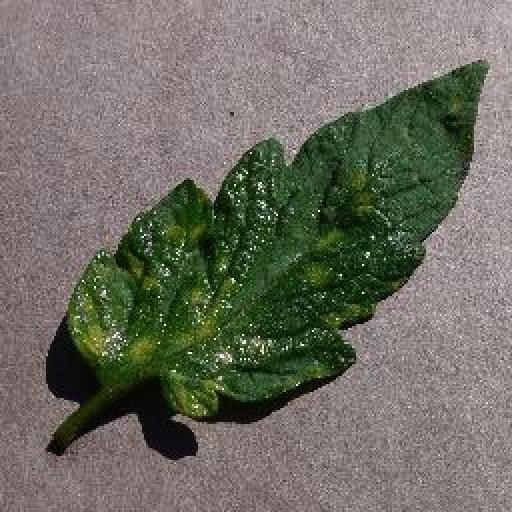disease_tomato: (62, 60, 490, 416)
